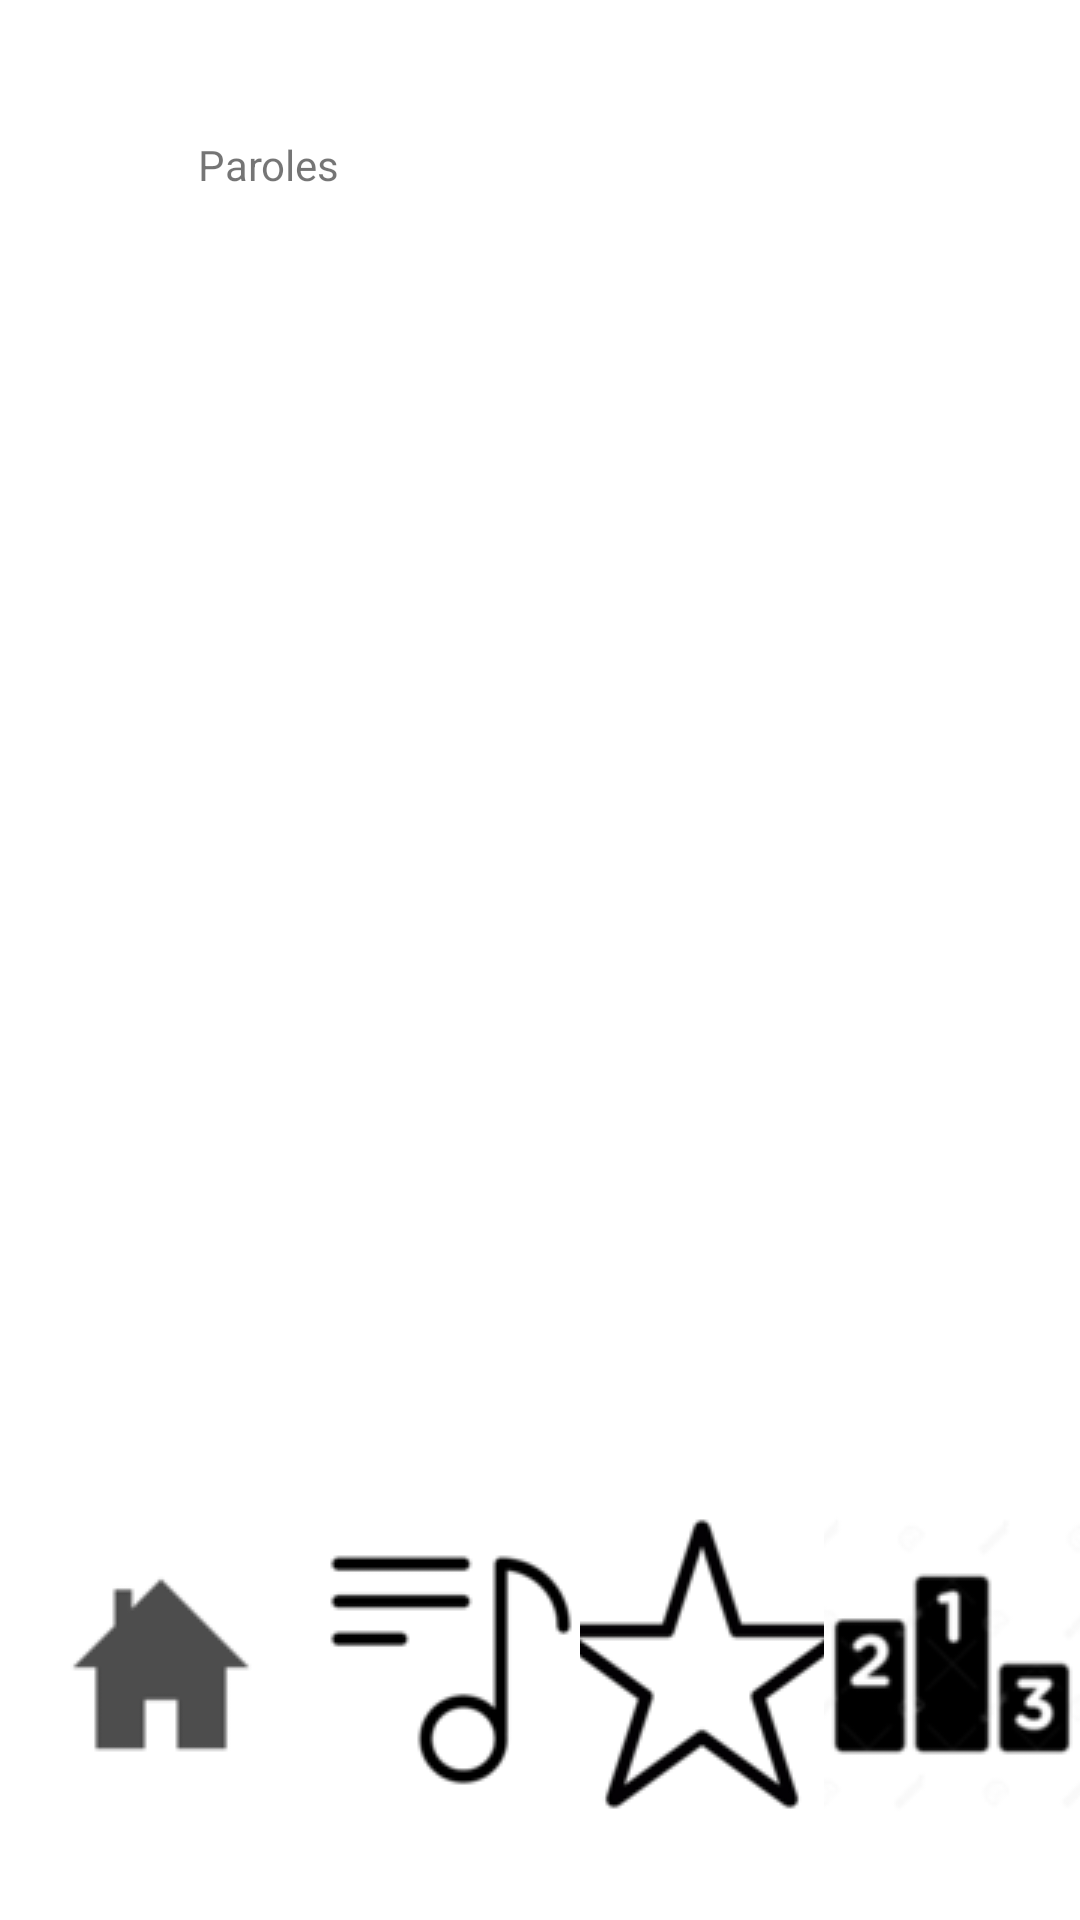

Icons on this 1080px×1920px Android screen, each with the point to tap as point (x, y):
accueil: point (161, 1665)
classement: point (952, 1664)
favoris: point (702, 1664)
paroles: point (451, 1670)
